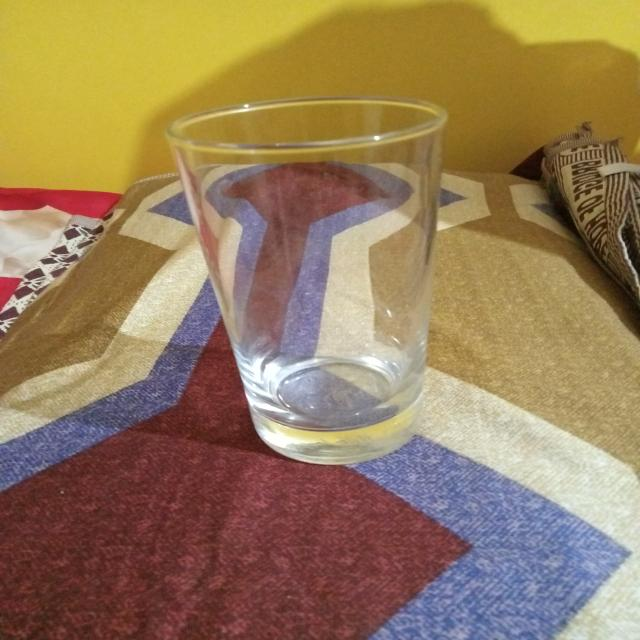Glass: (158, 89, 455, 468)
